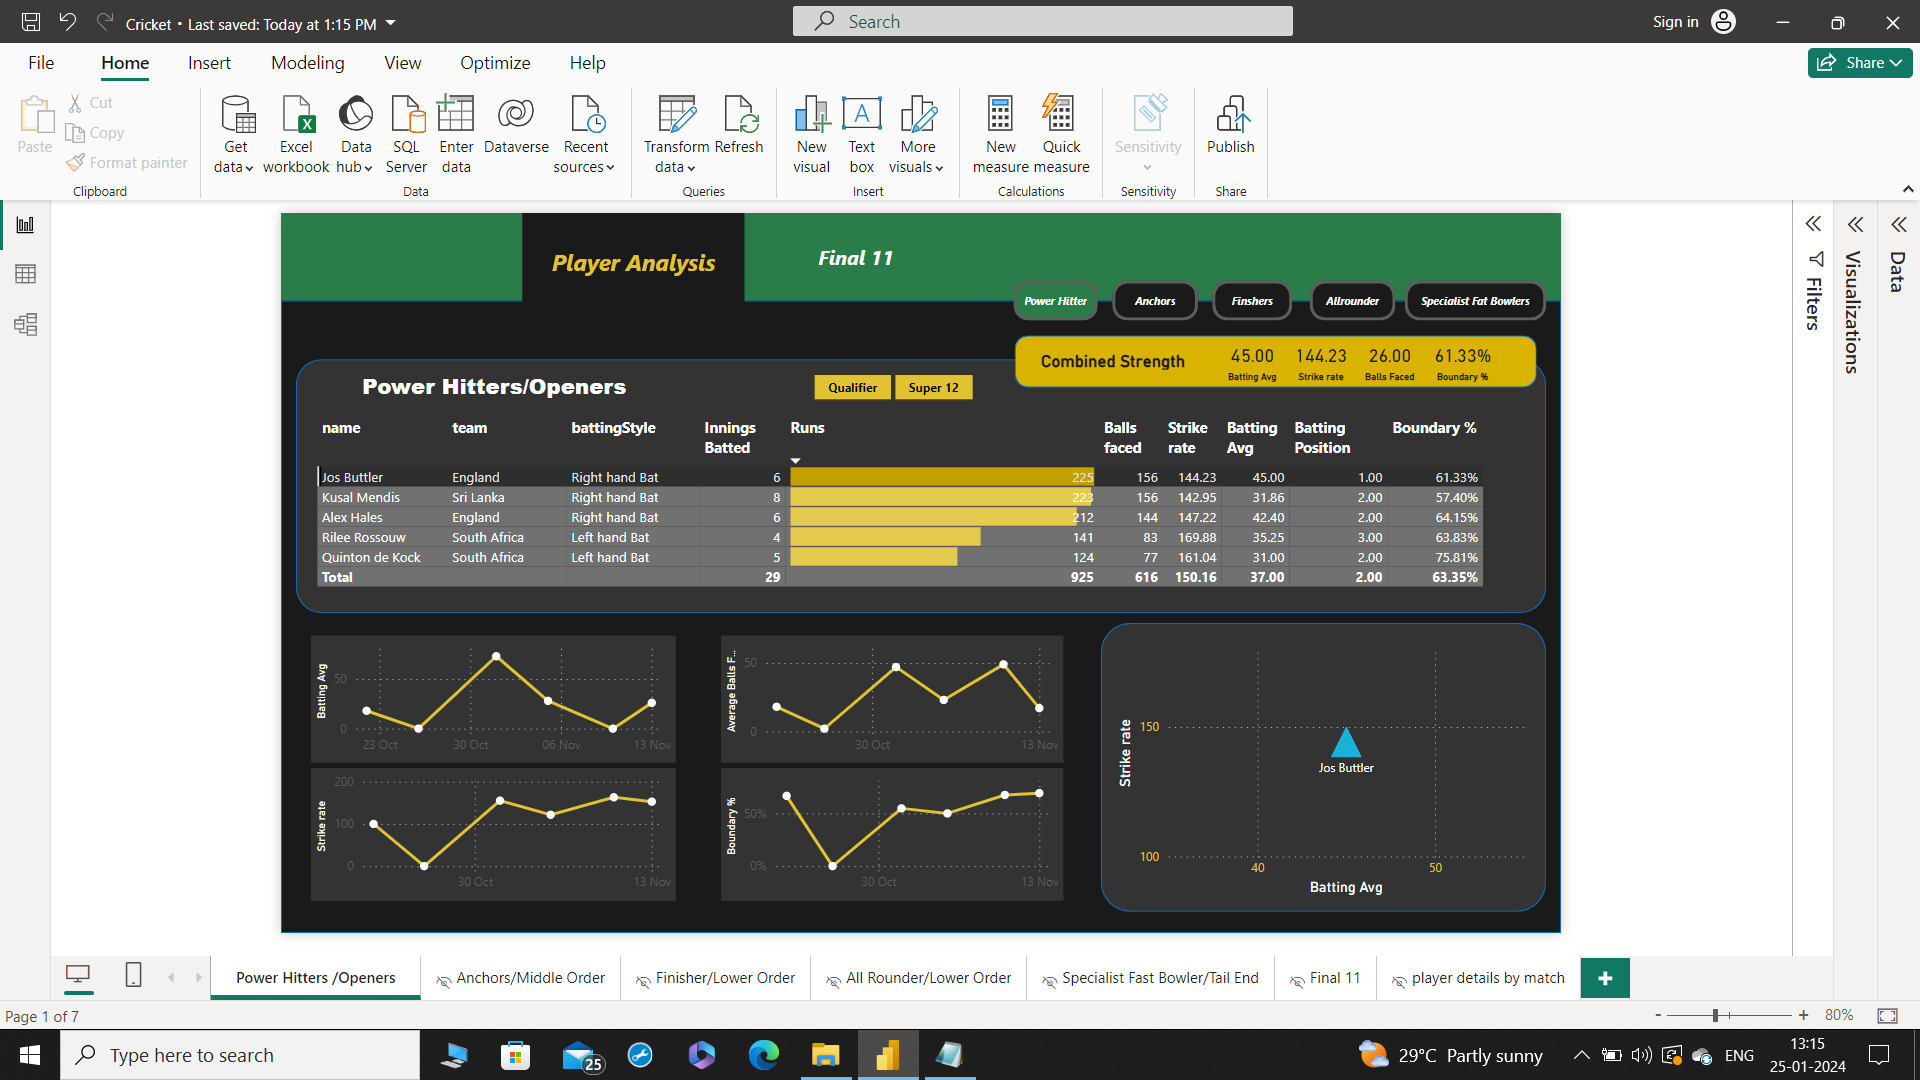

The dashboard page shown, as its layout file describes it:
{"tool":"powerbi","page":{"name":"Power Hitters /Openers","canvas":[1280,720],"ordinal":0},"visuals":[{"type":"shape","box":[0,87.5,1280,632.5],"z":0},{"type":"lineChart","fields":{"Y":["Key Measures.Batting Avg"],"Category":["dim_match_summary.matchDate"]},"box":[30,422.5,365,127.5],"z":1000},{"type":"lineChart","fields":{"Y":["Key Measures.Strike rate"],"Category":["dim_match_summary.matchDate"]},"box":[30,555,365,132.5],"z":2000},{"type":"lineChart","fields":{"Y":["Key Measures.Boundary %"],"Category":["dim_match_summary.matchDate"]},"box":[440,555,342.5,132.5],"z":3000},{"type":"lineChart","fields":{"Y":["Key Measures.Average Balls Faced"],"Category":["dim_match_summary.matchDate"]},"box":[440,422.5,342.5,127.5],"z":4000},{"type":"actionButton","box":[241.2,0,222.5,96.2],"z":5000},{"type":"shape","box":[820,410,445,288.8],"z":6000},{"type":"actionButton","box":[463.8,0,222.5,87.5],"z":7000},{"type":"actionButton","box":[732.9,67.1,84.3,40],"z":8000},{"type":"shape","box":[15,146.2,1250,253.8],"z":9000},{"type":"actionButton","box":[831.7,67.5,85.8,40],"z":10000},{"type":"actionButton","box":[931.4,67.1,80,40],"z":11000},{"type":"actionButton","box":[1124.3,67.1,141.4,40],"z":12000},{"type":"tableEx","title":"Shortlisted Based On Criteria","fields":{"Values":["dim_players.name","dim_players.team","dim_players.battingStyle","Key Measures.Total Innings Batted","Key Measures.Total Runs","Key Measures.total balls faced","Key Measures.Strike rate","Key Measures.Batting Avg","Key Measures.Batting Position","Key Measures.Boundary %"]},"box":[30,197.5,1180,188.8],"z":13000},{"type":"slicer","fields":{"Values":["dim_match_summary.stage"]},"box":[506.7,153.3,210,40.8],"z":14000},{"type":"scatterChart","fields":{"X":["Key Measures.Batting Avg"],"Y":["Key Measures.Strike rate"],"Category":["dim_players.name"],"Series":["dim_players.name"],"Size":["Key Measures.Total Runs"]},"box":[831.2,422.5,423.8,265],"z":15000},{"type":"textbox","box":[55.7,152.9,314.3,45.7],"z":16000},{"type":"actionButton","box":[1028.6,67.1,85.7,40],"z":17000},{"type":"shape","box":[733.1,122.5,521.9,51.9],"z":18000},{"type":"textbox","title":"Combined Strength","box":[755,137.5,162.5,21.2],"z":19000},{"type":"card","fields":{"Values":["Key Measures.Batting Avg"]},"box":[940,122.1,62.9,51.4],"z":20000},{"type":"card","fields":{"Values":["Key Measures.Strike rate"]},"box":[1008.6,122.1,62.9,51.4],"z":21000},{"type":"card","fields":{"Values":["Key Measures.Average Balls Faced"]},"box":[1077.1,122.9,62.9,51.4],"z":22000},{"type":"card","fields":{"Values":["Key Measures.Boundary %"]},"box":[1147.1,122.1,68.6,51.4],"z":23000},{"type":"card","fields":{"Values":["Key Measures.Display Text"]},"box":[762.5,132.5,493.8,32.5],"z":24000}]}

Visuals, with their boxes on the page's 1280x720 design canvas (x1, y1, x2, y2). These are canvas units, not pixel positions in the 1920x1080 screenshot, which may show the page scaled, cropped or inside an application window:
shape: {"left": 0, "top": 88, "right": 1280, "bottom": 720}
lineChart - Key Measures.Batting Avg x dim_match_summary.matchDate: {"left": 30, "top": 422, "right": 395, "bottom": 550}
lineChart - Key Measures.Strike rate x dim_match_summary.matchDate: {"left": 30, "top": 555, "right": 395, "bottom": 688}
lineChart - Key Measures.Boundary % x dim_match_summary.matchDate: {"left": 440, "top": 555, "right": 782, "bottom": 688}
lineChart - Key Measures.Average Balls Faced x dim_match_summary.matchDate: {"left": 440, "top": 422, "right": 782, "bottom": 550}
actionButton: {"left": 241, "top": 0, "right": 464, "bottom": 96}
shape: {"left": 820, "top": 410, "right": 1265, "bottom": 699}
actionButton: {"left": 464, "top": 0, "right": 686, "bottom": 88}
actionButton: {"left": 733, "top": 67, "right": 817, "bottom": 107}
shape: {"left": 15, "top": 146, "right": 1265, "bottom": 400}
actionButton: {"left": 832, "top": 68, "right": 918, "bottom": 108}
actionButton: {"left": 931, "top": 67, "right": 1011, "bottom": 107}
actionButton: {"left": 1124, "top": 67, "right": 1266, "bottom": 107}
"Shortlisted Based On Criteria" tableEx: {"left": 30, "top": 198, "right": 1210, "bottom": 386}
slicer - dim_match_summary.stage: {"left": 507, "top": 153, "right": 717, "bottom": 194}
scatterChart - Key Measures.Batting Avg x Key Measures.Strike rate: {"left": 831, "top": 422, "right": 1255, "bottom": 688}
textbox: {"left": 56, "top": 153, "right": 370, "bottom": 199}
actionButton: {"left": 1029, "top": 67, "right": 1114, "bottom": 107}
shape: {"left": 733, "top": 122, "right": 1255, "bottom": 174}
"Combined Strength" textbox: {"left": 755, "top": 138, "right": 918, "bottom": 159}
card - Key Measures.Batting Avg: {"left": 940, "top": 122, "right": 1003, "bottom": 174}
card - Key Measures.Strike rate: {"left": 1009, "top": 122, "right": 1072, "bottom": 174}
card - Key Measures.Average Balls Faced: {"left": 1077, "top": 123, "right": 1140, "bottom": 174}
card - Key Measures.Boundary %: {"left": 1147, "top": 122, "right": 1216, "bottom": 174}
card - Key Measures.Display Text: {"left": 762, "top": 132, "right": 1256, "bottom": 165}
